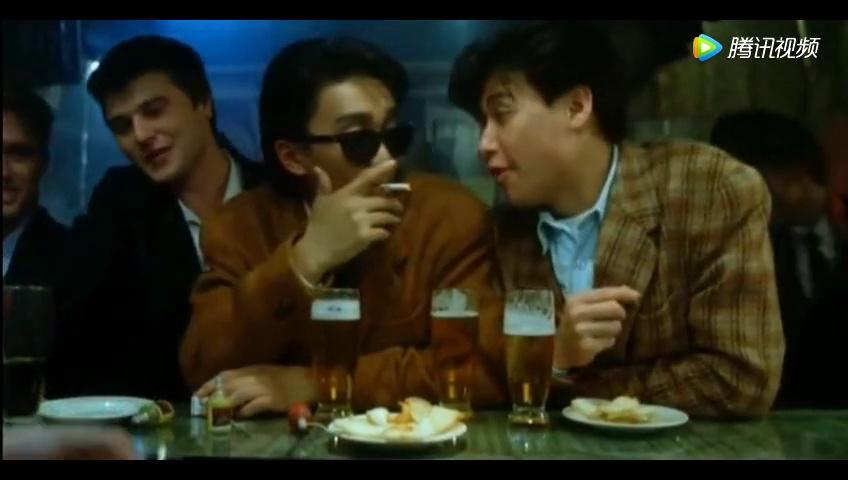smoke: (378, 181, 413, 194)
